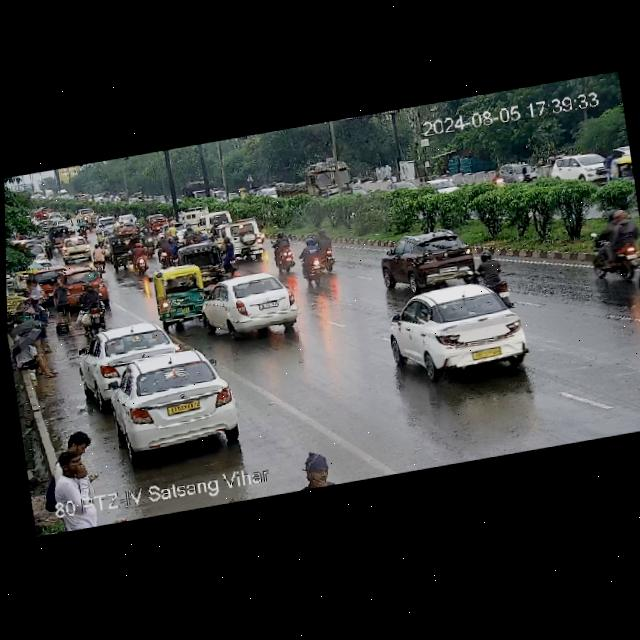car: (85, 341, 245, 464), (384, 276, 530, 386), (75, 314, 193, 402), (376, 227, 485, 295), (196, 269, 296, 341), (150, 259, 214, 324), (170, 239, 239, 287), (547, 146, 615, 190), (63, 264, 108, 310), (230, 211, 269, 264), (58, 234, 97, 264), (498, 158, 535, 188), (29, 260, 70, 286), (45, 223, 74, 251), (611, 155, 634, 187), (113, 221, 143, 237), (74, 205, 102, 222), (197, 211, 216, 236), (93, 215, 116, 233), (145, 212, 166, 228)
motorcycle: (585, 204, 640, 286), (300, 230, 345, 279), (267, 229, 299, 276), (74, 278, 103, 329), (476, 242, 504, 286), (123, 234, 153, 275), (150, 229, 178, 268), (219, 232, 239, 273), (183, 225, 198, 246), (76, 219, 91, 237), (83, 211, 93, 232), (208, 220, 218, 230), (165, 214, 174, 224)
person: (53, 427, 108, 501), (10, 322, 60, 383), (10, 296, 60, 356), (296, 446, 334, 488), (24, 277, 56, 321), (58, 427, 93, 458), (54, 276, 72, 323)
truck: (298, 159, 353, 203), (178, 206, 213, 225)
